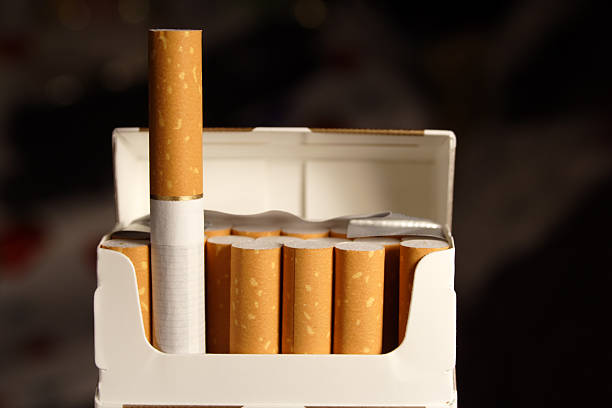cigarette: (92, 125, 459, 408), (148, 27, 207, 354), (228, 240, 283, 355), (282, 241, 334, 356), (334, 241, 386, 355), (208, 234, 256, 354), (101, 237, 152, 347), (397, 240, 449, 347), (383, 243, 400, 354)
